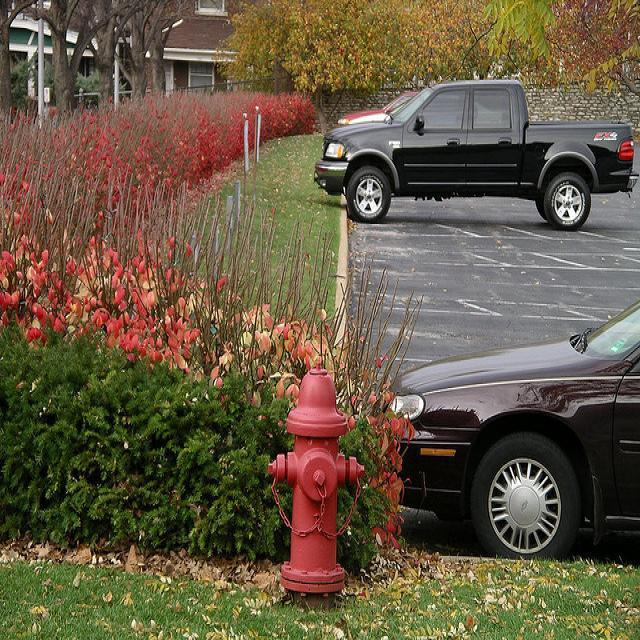fire_hydrant: (266, 358, 363, 594)
